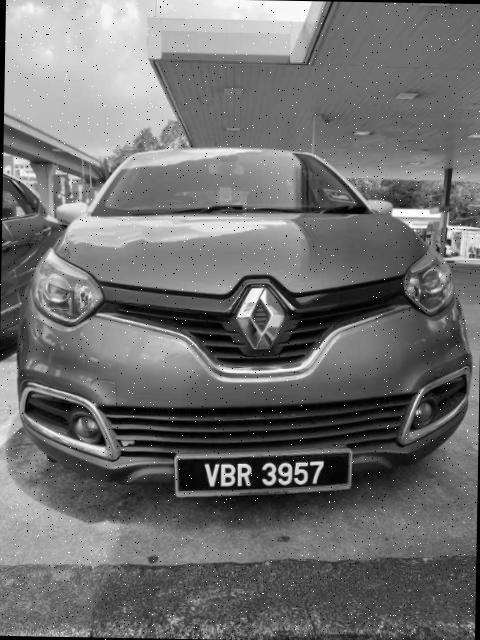License_Plate: (172, 445, 353, 502)
car: (14, 143, 477, 503)
